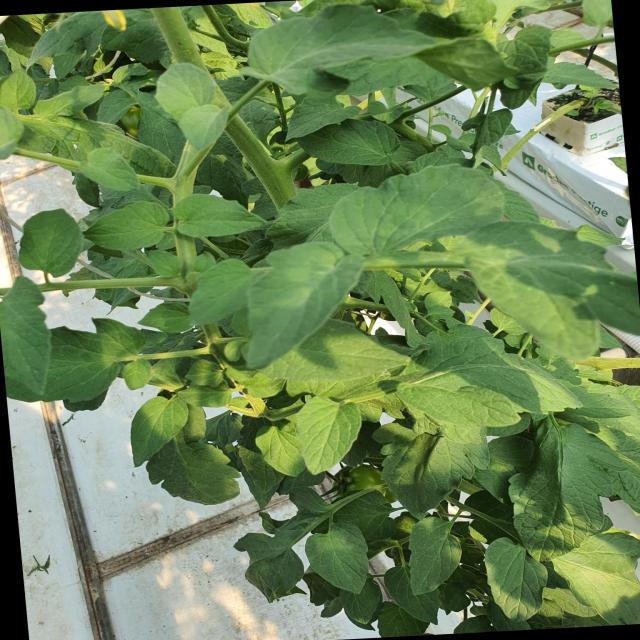Healthy Leaf: (419, 197, 640, 368), (383, 330, 586, 435), (502, 411, 636, 563), (220, 13, 458, 96), (318, 160, 504, 259), (233, 240, 355, 367), (0, 262, 58, 421), (477, 520, 561, 622), (66, 196, 183, 261), (305, 507, 381, 605), (290, 392, 368, 481), (166, 194, 285, 243), (401, 510, 469, 594)
